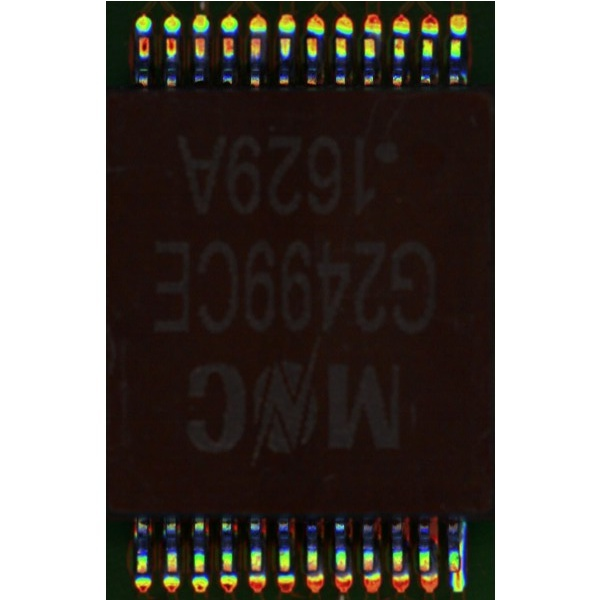Bad_podu: (454, 566, 461, 582)
Bad_qiaojiao: (460, 518, 466, 570)
